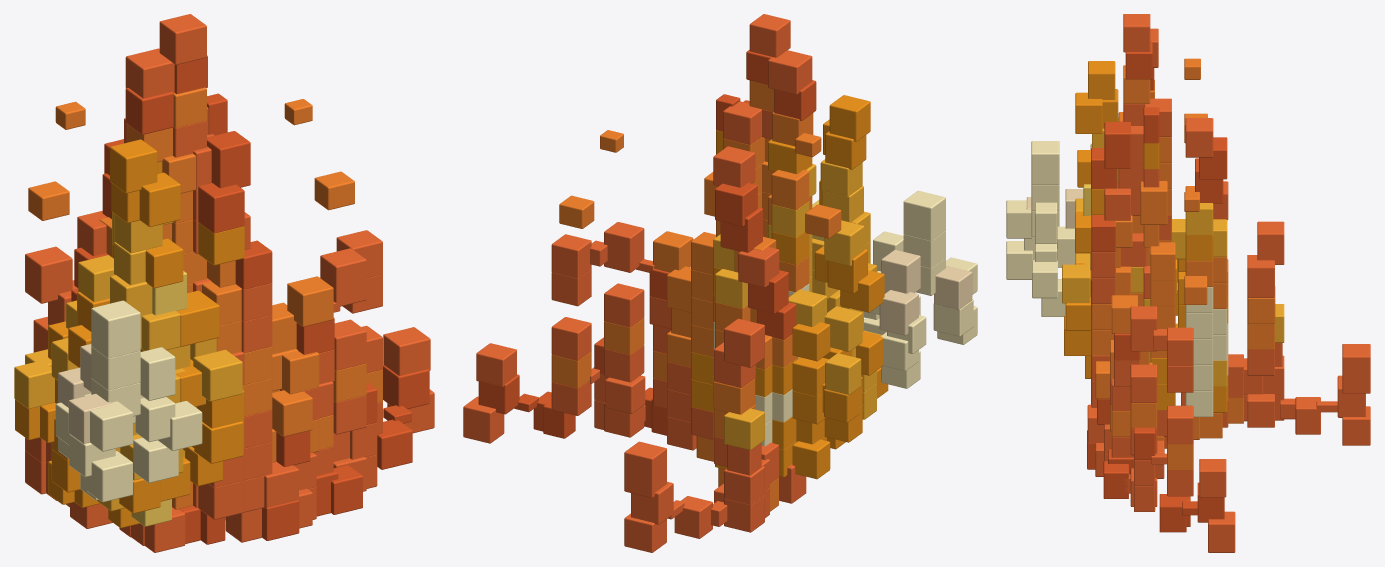
The model's file is SM_Blender_Ember.glb.
The picture shows the model from 3 angles, left to right: view 1: azimuth 30°, elevation 25°; view 2: azimuth 150°, elevation 25°; view 3: azimuth 270°, elevation 25°; orthographic projection. The views are drawn at different scales.
Parts seen in each view (by area): view 1: SM_Blender_Ember; view 2: SM_Blender_Ember; view 3: SM_Blender_Ember.
Part boxes in pixels (<box>): SM_Blender_Ember: <box>14,14,434,552</box>; SM_Blender_Ember: <box>463,14,977,552</box>; SM_Blender_Ember: <box>1006,14,1370,552</box>.
Bounding box in the file's own units: 1.28 × 1.35 × 1.07.
1 material, 1 textured.
